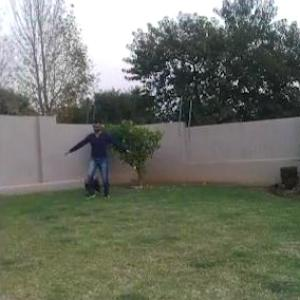land: (64, 114, 138, 202)
